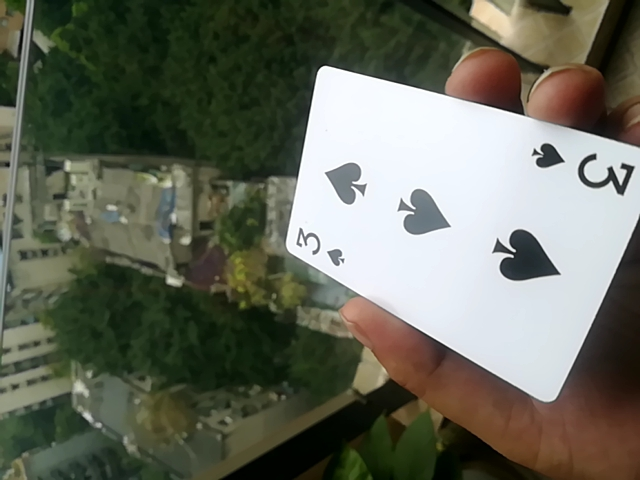ht 3: (286, 60, 639, 409)
